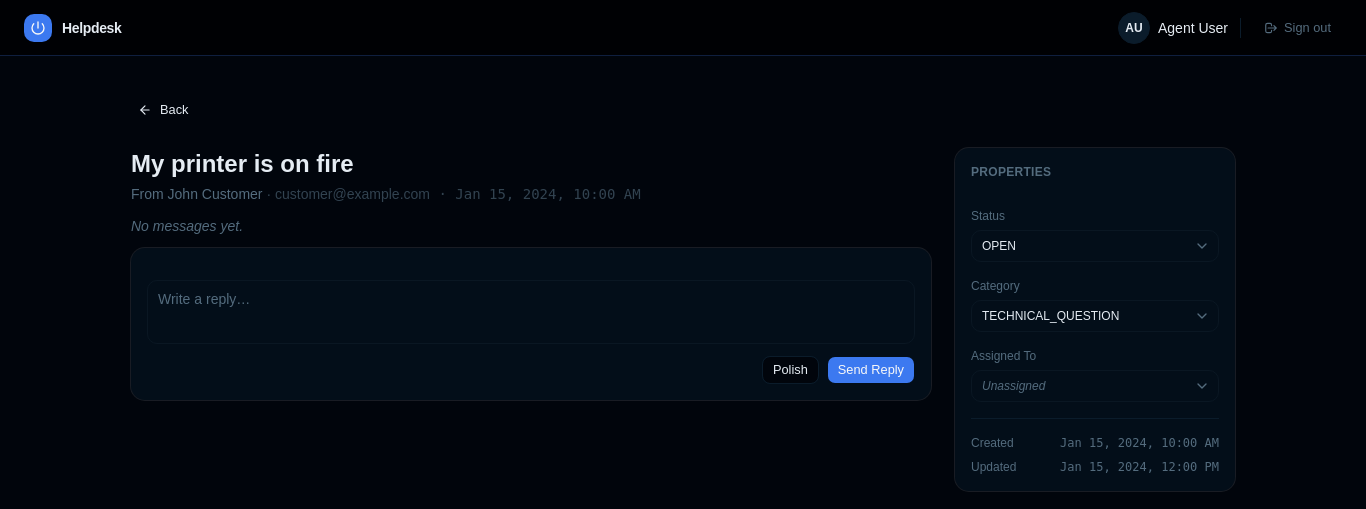
Test case: TicketDetailPage › status › shows the current status as the selected option
The image size is (1366, 509).
Expected: the heading "My printer is on fire" is shown, [131, 150, 354, 177]
Click the dropdown named "Status" at (1095, 246), box [971, 230, 1219, 262]
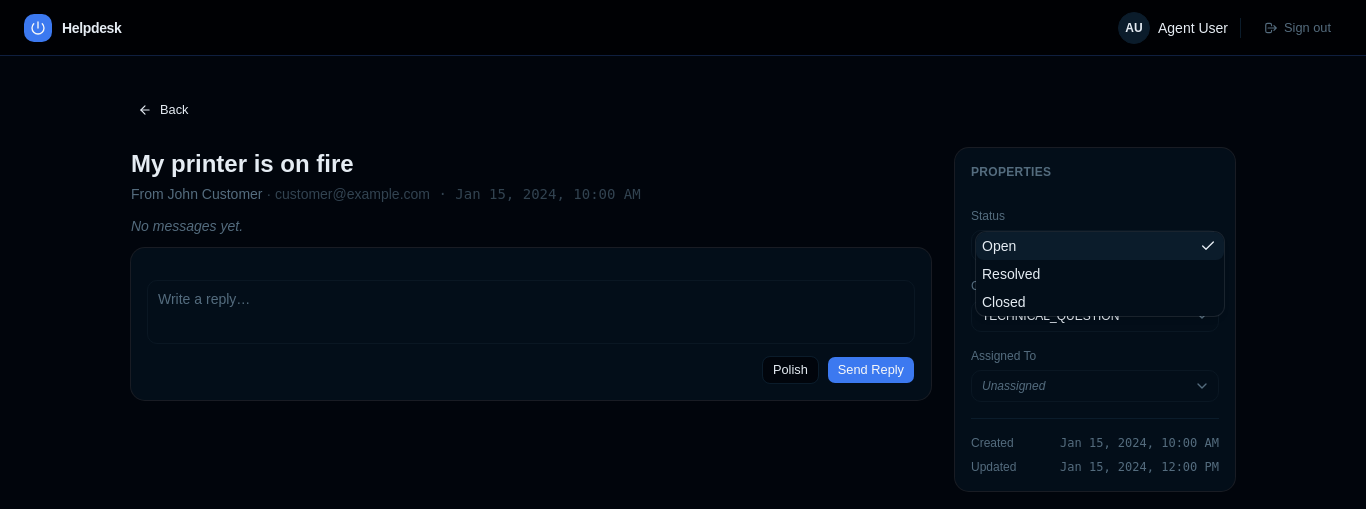
Now the option "Open" is shown, box [976, 232, 1224, 260]
